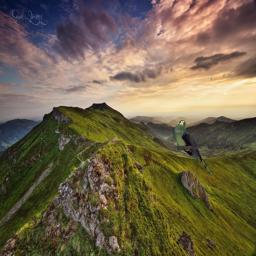Cuckoo: (172, 120, 216, 177)
